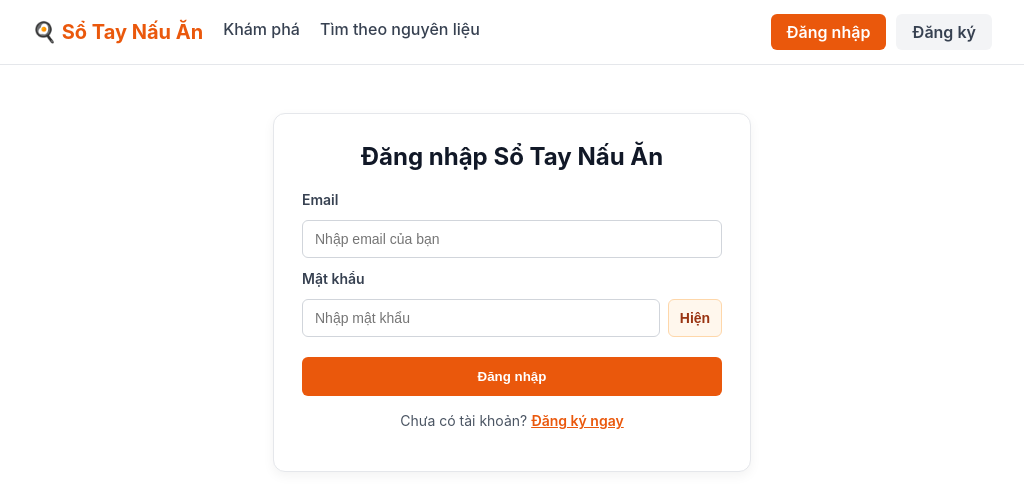
toggles the login password with the keyboard and keeps the typed value
Type "TestPassword123" into the password field labelled "Mật khẩu" at (481, 318), box [302, 299, 660, 337]
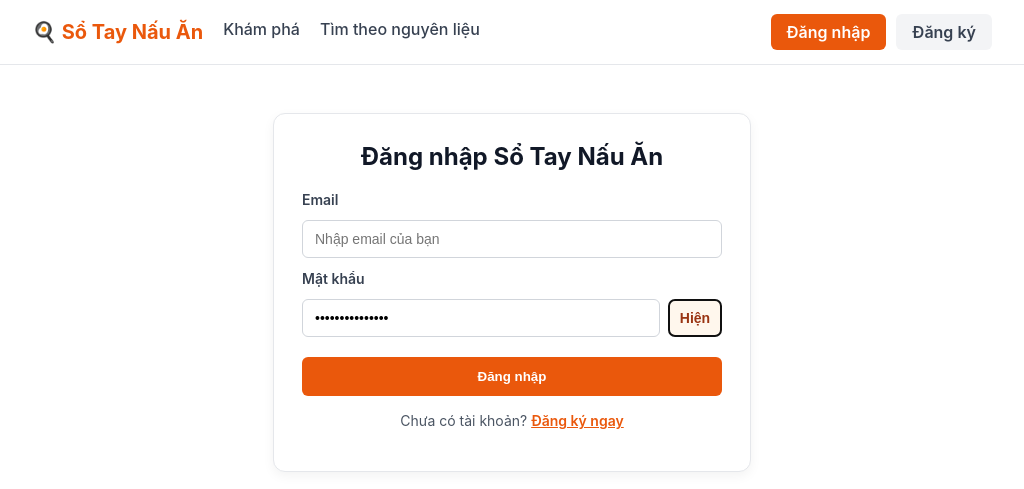
Press Enter
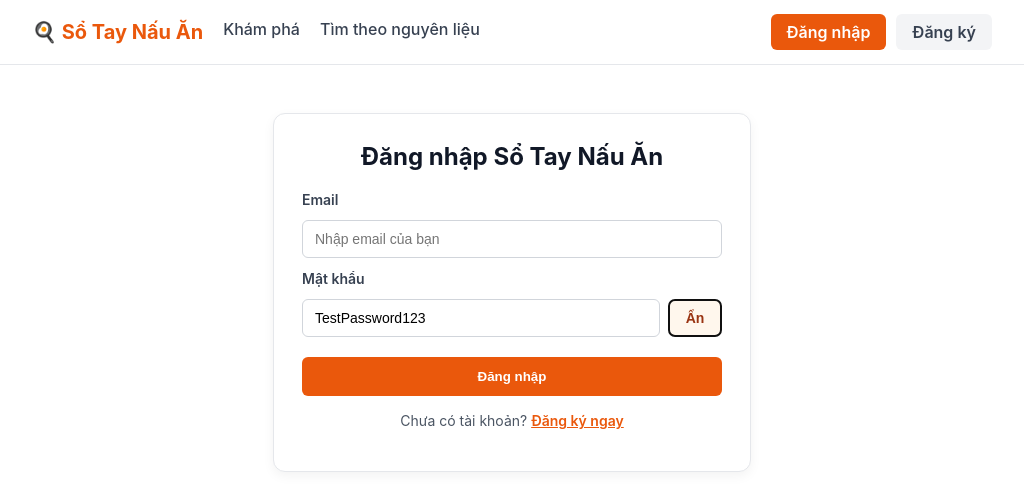
Result: the field labelled "Mật khẩu" shows its text at [302, 299, 660, 337]
Type keys "[Space]"
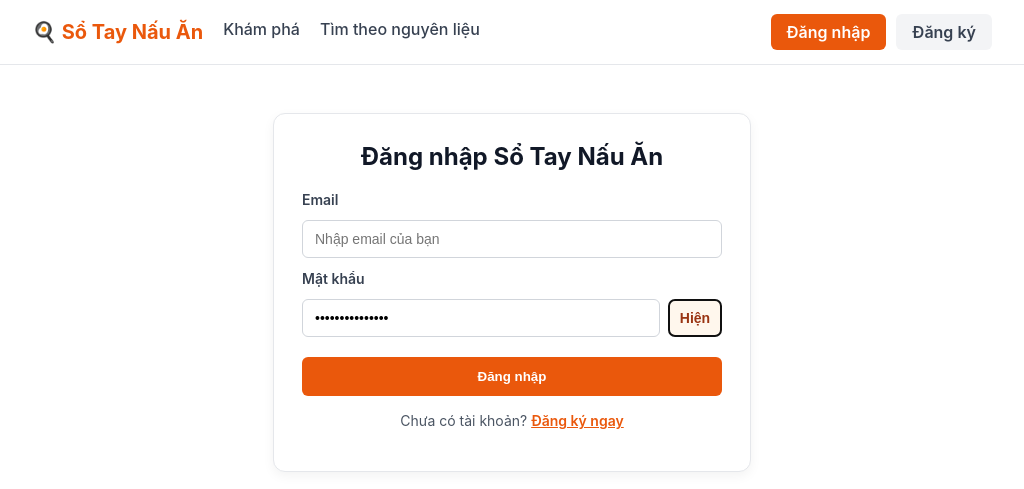
Result: the password field labelled "Mật khẩu" hides its text at [302, 299, 660, 337]
